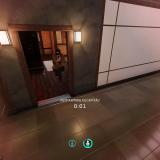Character: (52, 48, 66, 86)
Head: (55, 49, 61, 56)
